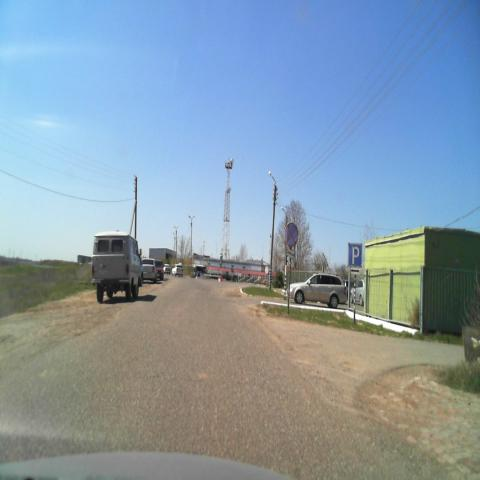8_3_1: (350, 266, 361, 274)
